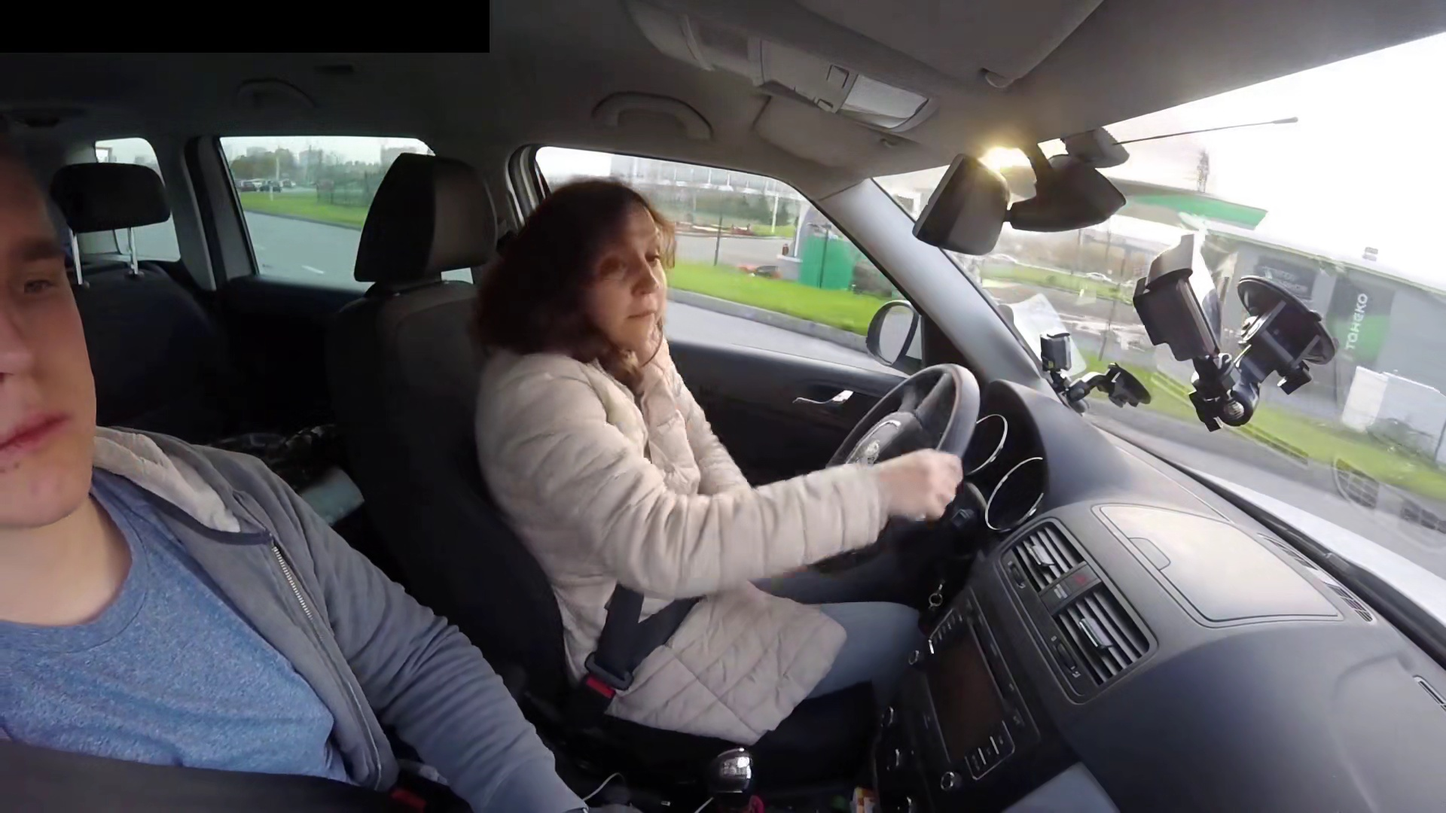car: (401, 119, 1071, 771)
pedestrian: (426, 143, 804, 745)
